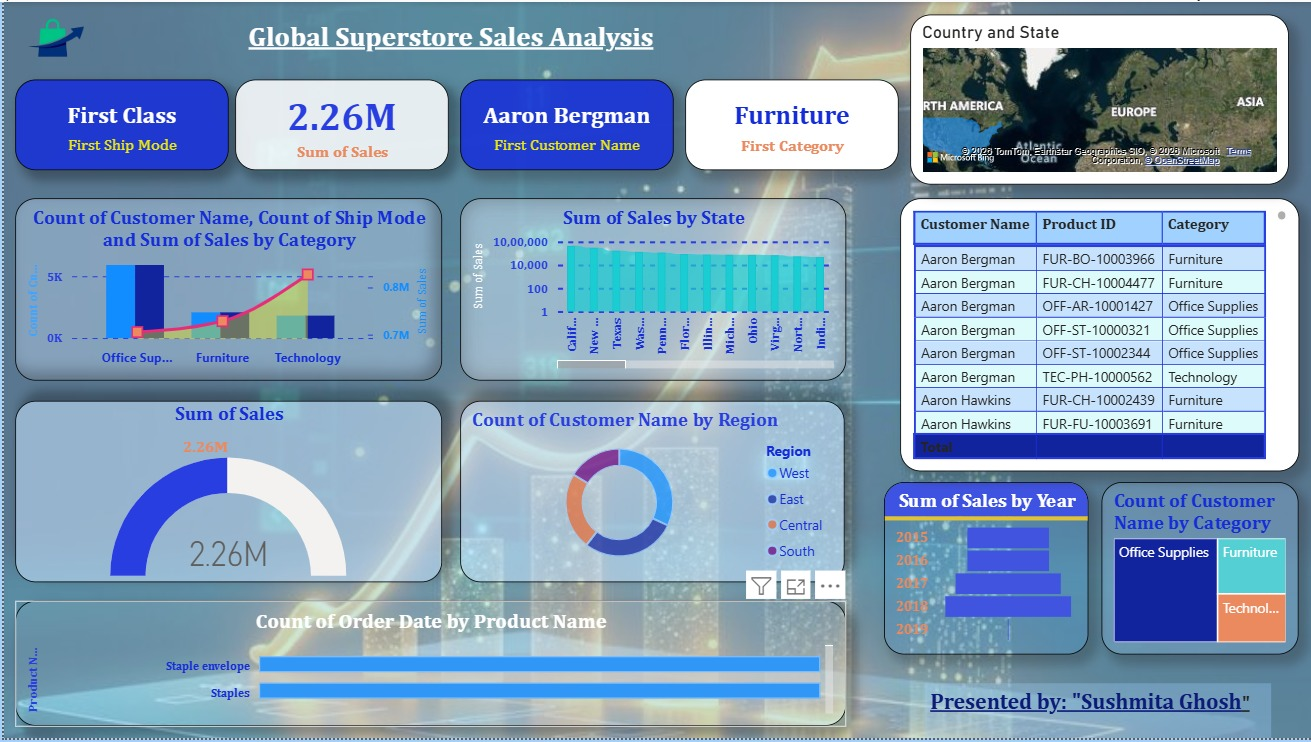

The page's visual inventory and layout, read from the dashboard file:
{"tool":"powerbi","page":{"name":"Page 1","canvas":[1280,720],"ordinal":0},"visuals":[{"type":"ribbonChart","fields":{"Category":["train.State"],"Y":["Sum(train.Sales)"]},"box":[446.2,192.5,377.5,178.8],"z":0},{"type":"textbox","box":[207.5,12.5,458.8,41.2],"z":1000},{"type":"gauge","fields":{"Y":["Sum(train.Sales)"]},"box":[11.2,390,417.5,177.5],"z":2000},{"type":"donutChart","fields":{"Y":["CountNonNull(train.Customer Name)"],"Category":["train.Region"]},"box":[446.2,390,376.2,177.5],"z":3000},{"type":"hundredPercentStackedBarChart","fields":{"Category":["train.Product Name"],"Y":["CountNonNull(train.Order Date)"]},"box":[11.2,586.2,812.5,122.5],"z":4000},{"type":"card","fields":{"Values":["Min(train.Ship Mode)"]},"box":[11.2,76.2,208.8,88.8],"z":5000},{"type":"card","fields":{"Values":["Sum(train.Sales)"]},"box":[226.2,76.2,208.8,88.8],"z":6000},{"type":"treemap","fields":{"Group":["train.Category"],"Values":["CountNonNull(train.Customer Name)"]},"box":[1073.8,470,192.5,168.8],"z":7000},{"type":"lineClusteredColumnComboChart","fields":{"Y2":["Sum(train.Sales)"],"Category":["train.Category"],"Y":["CountNonNull(train.Customer Name)","CountNonNull(train.Ship Mode)"]},"box":[11.2,192.5,417.5,178.8],"z":8000},{"type":"funnel","fields":{"Y":["Sum(train.Sales)"],"Category":["train.Ship Date.Variation.Date Hierarchy.Year","train.Ship Date.Variation.Date Hierarchy.Quarter","train.Ship Date.Variation.Date Hierarchy.Month","train.Ship Date.Variation.Date Hierarchy.Day"]},"box":[861.2,470,200,168.8],"z":9000},{"type":"textbox","box":[901.2,666.2,338.8,53.8],"z":10000},{"type":"card","fields":{"Values":["Min(train.Customer Name)"]},"box":[446.2,76.2,208.8,88.8],"z":11000},{"type":"card","fields":{"Values":["Min(train.Category)"]},"box":[666.2,76.2,208.8,88.8],"z":12000},{"type":"tableEx","fields":{"Values":["train.Customer Name","train.Product ID","train.Category"]},"box":[876.2,192.5,390,267.5],"z":13000},{"type":"filledMap","fields":{"Category":["train.Country"],"Series":["train.State"]},"box":[886.6,12.2,370.5,166.3],"z":13001},{"type":"image","box":[11.2,0,80,61.2],"z":13002}]}

Visuals, with their boxes in screenshot pixels (x1, y1, x2, y2), scaled from the page's 1280x720 canvas onto the 1311x742 screenshot:
ribbonChart - train.State x Sum(train.Sales): bbox=[457, 198, 844, 383]
textbox: bbox=[213, 13, 682, 55]
gauge - Sum(train.Sales): bbox=[11, 402, 439, 585]
donutChart - CountNonNull(train.Customer Name) x train.Region: bbox=[457, 402, 842, 585]
hundredPercentStackedBarChart - train.Product Name x CountNonNull(train.Order Date): bbox=[11, 604, 844, 730]
card - Min(train.Ship Mode): bbox=[11, 79, 225, 170]
card - Sum(train.Sales): bbox=[232, 79, 446, 170]
treemap - train.Category x CountNonNull(train.Customer Name): bbox=[1100, 484, 1297, 658]
lineClusteredColumnComboChart - Sum(train.Sales) x train.Category: bbox=[11, 198, 439, 383]
funnel - Sum(train.Sales) x train.Ship Date.Variation.Date Hierarchy.Year: bbox=[882, 484, 1087, 658]
textbox: bbox=[923, 687, 1270, 741]
card - Min(train.Customer Name): bbox=[457, 79, 671, 170]
card - Min(train.Category): bbox=[682, 79, 896, 170]
tableEx - train.Customer Name x train.Product ID: bbox=[897, 198, 1297, 474]
filledMap - train.Country x train.State: bbox=[908, 13, 1288, 184]
image: bbox=[11, 0, 93, 63]
